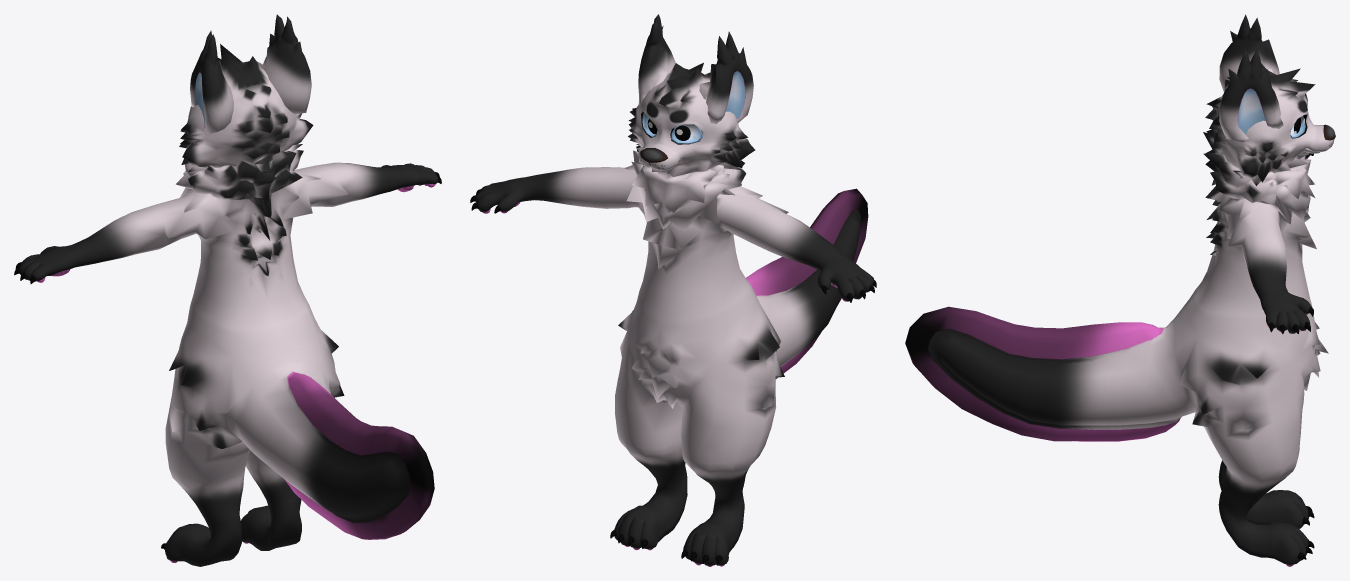
File: player.glb
The picture shows the model from 3 angles, left to right: view 1: azimuth 30°, elevation 25°; view 2: azimuth 150°, elevation 25°; view 3: azimuth 270°, elevation 25°; orthographic projection. The views are drawn at different scales.
Visible parts, largest first — view 1: body, tail; view 2: body, tail, eyes, left ear; view 3: body, tail, right ear.
Boxes of the visible parts, <box> form: body: <box>20,14,438,566</box>; tail: <box>284,373,434,539</box>; body: <box>476,14,873,565</box>; tail: <box>746,188,868,378</box>; eyes: <box>642,113,702,143</box>; left ear: <box>725,71,745,118</box>; body: <box>927,14,1334,564</box>; tail: <box>905,306,1180,441</box>; right ear: <box>1238,88,1265,134</box>.
Bounding box in the file's own units: 5.28 × 6.52 × 4.97.
20 materials, 20 textured.
